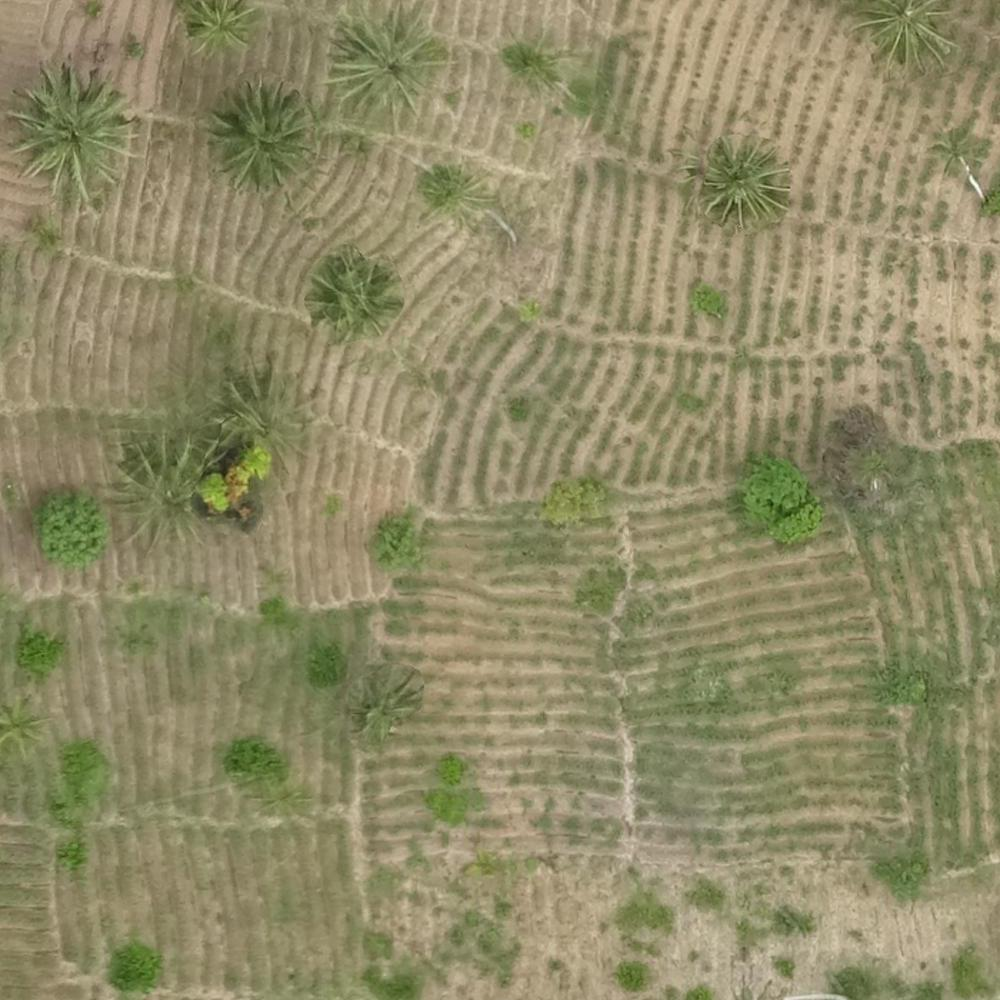Palm: (11, 68, 133, 196), (326, 10, 434, 119), (214, 83, 307, 181), (860, 1, 963, 78), (694, 136, 781, 225), (304, 255, 397, 335), (414, 161, 483, 229), (186, 1, 259, 60)
